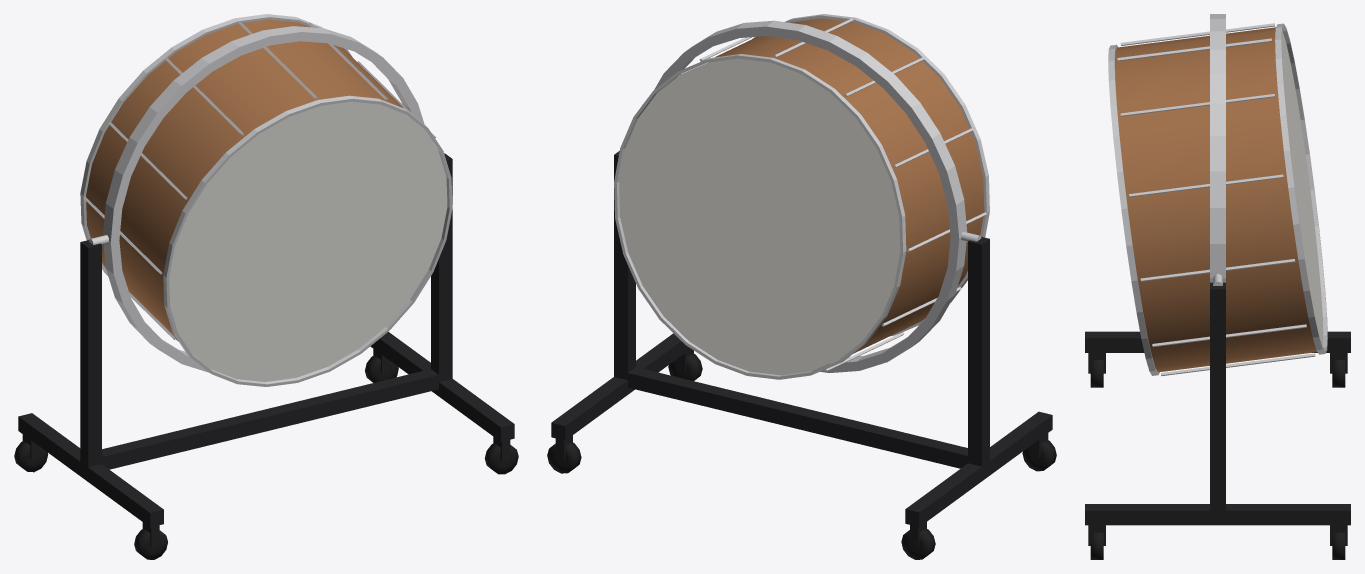
File: concert-bass-32.glb
3 renders of one model, left to right at view 1: azimuth 30°, elevation 25°; view 2: azimuth 150°, elevation 25°; view 3: azimuth 270°, elevation 25°, orthographic.
Parts seen in each view (by area): view 1: head, shell-wood, frame, metal, rubber; view 2: head, frame, shell-wood, metal, rubber; view 3: shell-wood, metal, frame, head, rubber.
Boxes of the visible parts, x1,y1,x2,y2 form: head: [169, 101, 447, 381]; shell-wood: [86, 19, 403, 341]; frame: [18, 153, 514, 547]; metal: [80, 14, 452, 386]; rubber: [14, 355, 518, 559]; head: [619, 58, 900, 375]; frame: [551, 151, 1052, 546]; shell-wood: [715, 18, 984, 353]; metal: [614, 14, 989, 379]; rubber: [547, 353, 1056, 559]; shell-wood: [1115, 27, 1316, 372]; metal: [1108, 14, 1327, 376]; frame: [1085, 282, 1350, 545]; head: [1282, 31, 1323, 345]; rubber: [1090, 360, 1345, 559].
Bounding box in the file's own units: 1.09 × 1.21 × 0.66.
